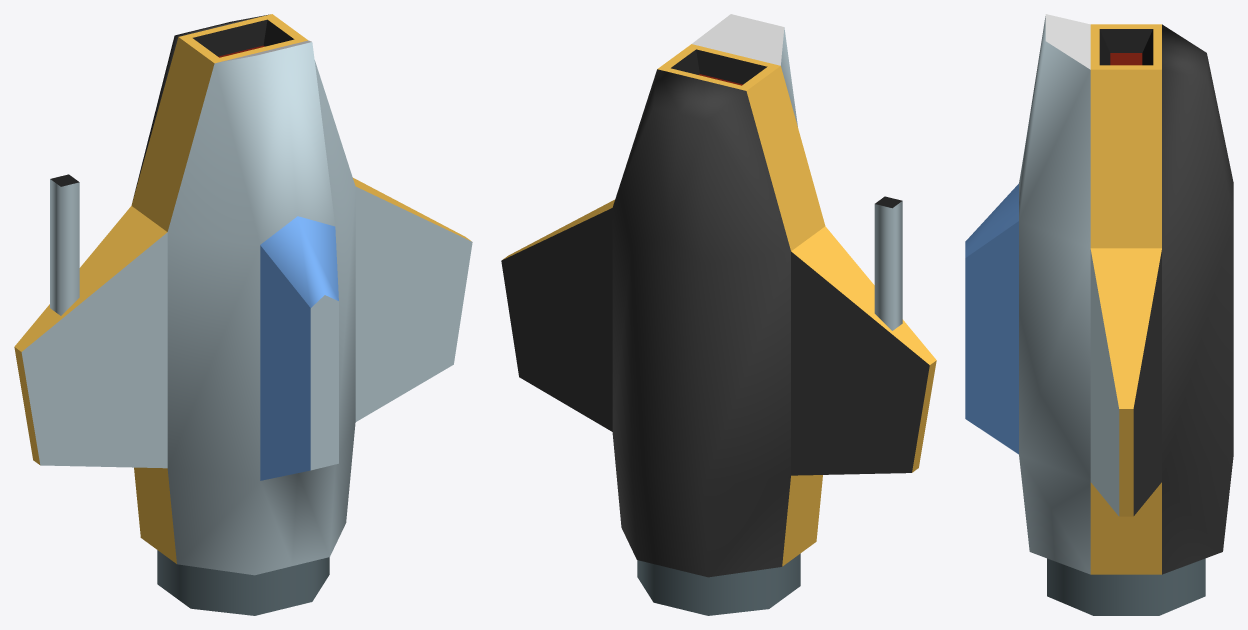
File: rocket.glb
3 renders of one model, left to right at view 1: azimuth 30°, elevation 25°; view 2: azimuth 150°, elevation 25°; view 3: azimuth 270°, elevation 25°, orthographic. The views are drawn at different scales.
Parts seen in each view (by area): view 1: ship, ship cockpit, exhaust, radio, ship.001; view 2: ship, exhaust, radio, ship.001; view 3: ship, ship cockpit, exhaust, ship.001.
Part boxes in pixels (left/top/right/bottom): ship: left=14, top=14, right=472, bottom=575; ship cockpit: left=260, top=216, right=338, bottom=480; exhaust: left=157, top=550, right=329, bottom=615; radio: left=50, top=179, right=79, bottom=315; ship.001: left=193, top=19, right=294, bottom=57; ship: left=501, top=14, right=936, bottom=577; exhaust: left=637, top=553, right=800, bottom=615; radio: left=874, top=201, right=902, bottom=330; ship.001: left=671, top=49, right=767, bottom=85; ship: left=1019, top=14, right=1233, bottom=574; ship cockpit: left=965, top=183, right=1018, bottom=454; exhaust: left=1047, top=558, right=1205, bottom=615; ship.001: left=1099, top=29, right=1153, bottom=65.
Size of the model in its own units: 2.4 by 2.85 by 1.25.
3 materials, 3 textured.
